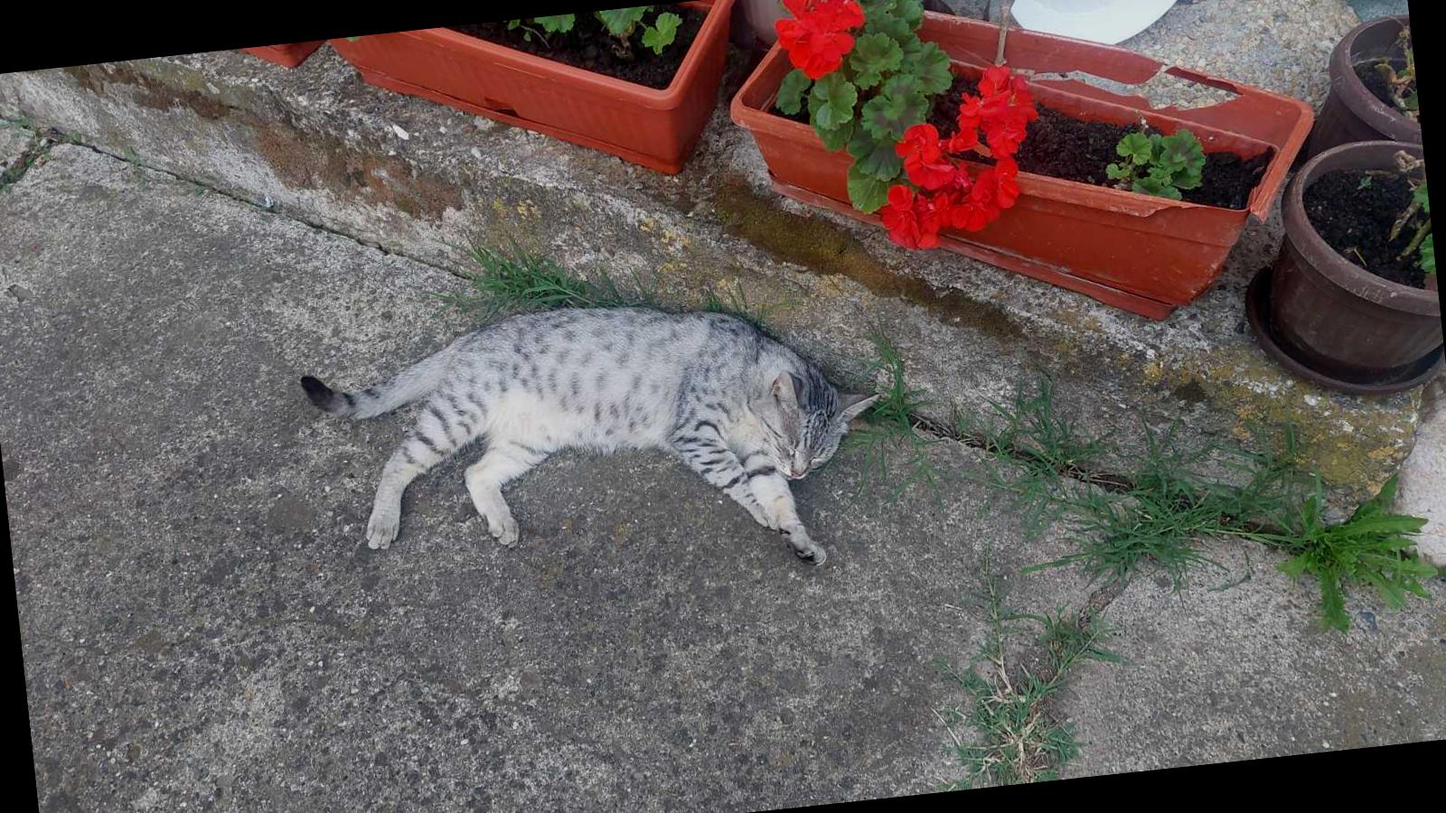macka: (296, 278, 896, 623)
